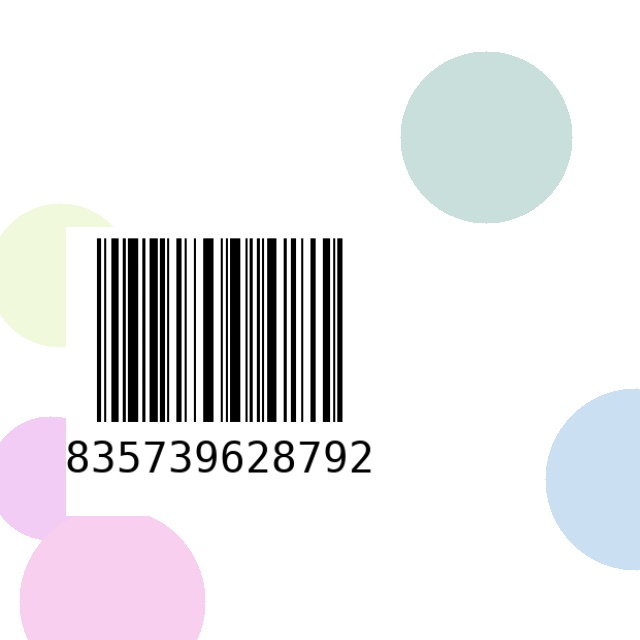barcode: (66, 227, 373, 516)
